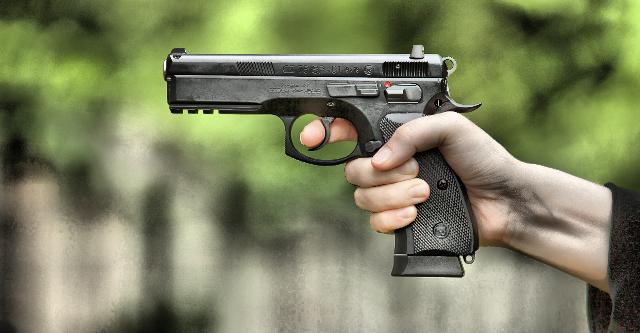pistol: (158, 45, 480, 279)
